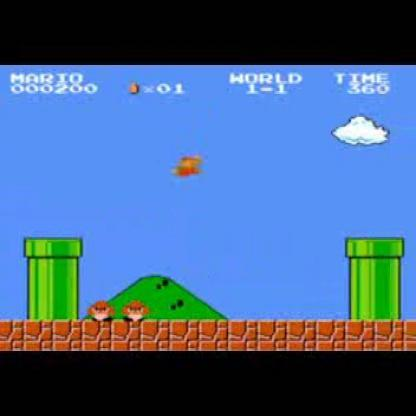Goomba: (124, 295, 149, 322), (88, 298, 113, 321)
